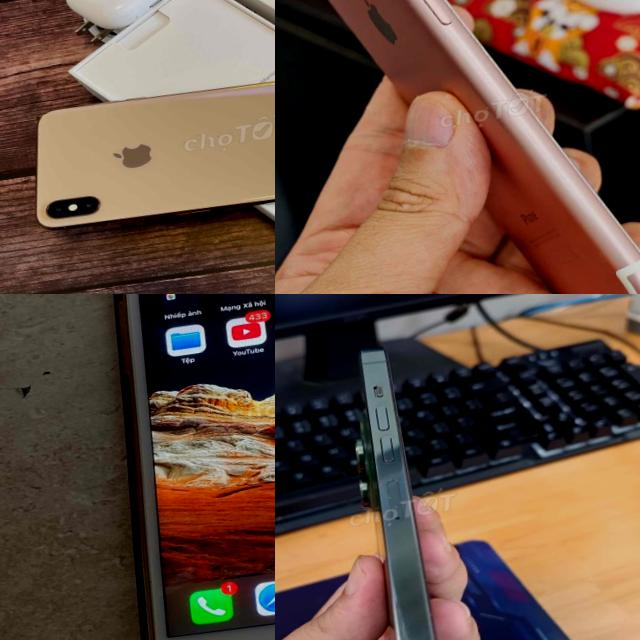scratch: (374, 469, 422, 544)
